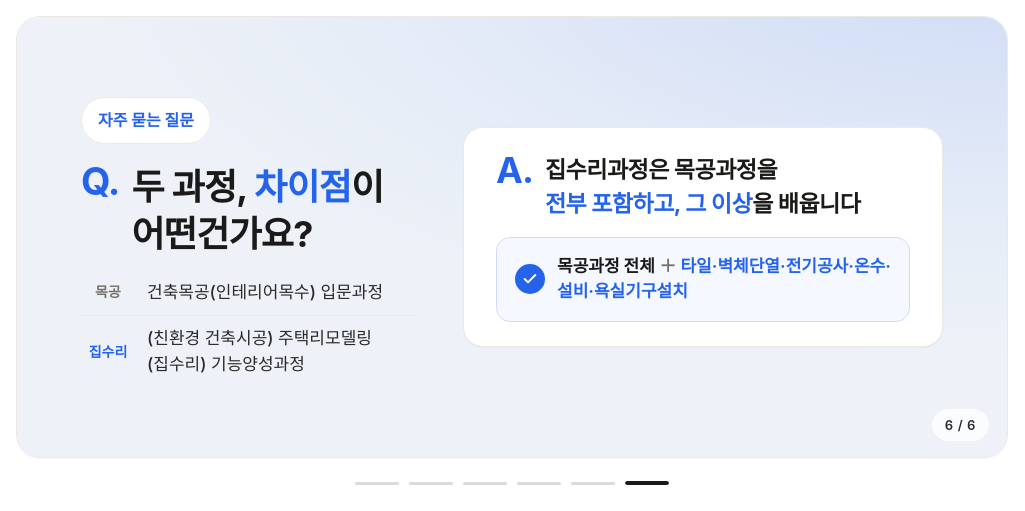
Test: Banner › 두번째 dot 클릭 시 인디케이터가 2 / 6
The width and height of the screenshot is (1025, 511).
Click the button named "슬라이드 2".
click(431, 483)  # box [409, 476, 453, 490]
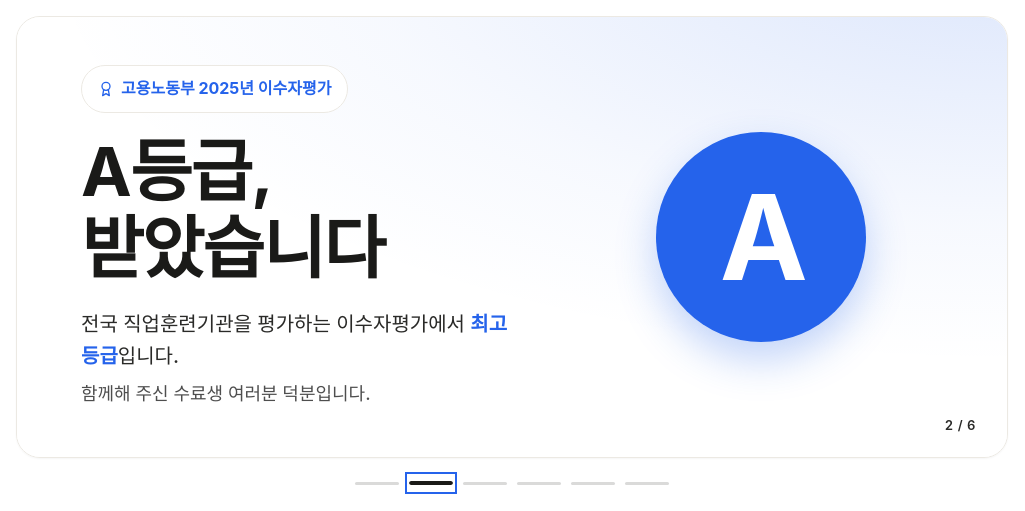
Result: the text "2 / 6" is shown at [932, 409, 989, 441]
